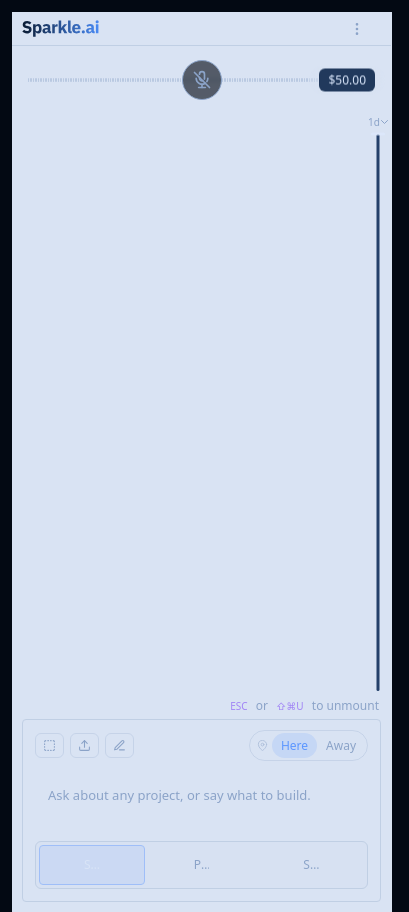
ConciergeHost — the suite is actually in the mounted state › REGRESSION: never draws one mount while routing at another, with no projectStore row
The width and height of the screenshot is (409, 912).
Type "move the button 5px left" into the text box named "Message" at (202, 804), box x1=35 y1=775 x2=368 y2=833
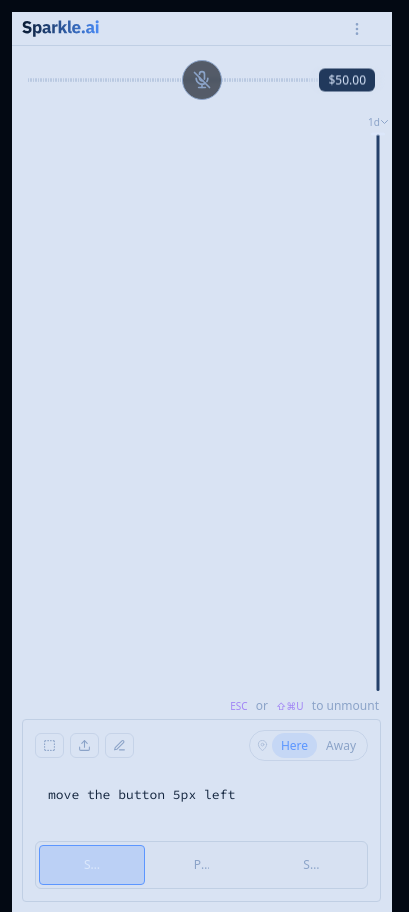
Click the button "Send" at (92, 865), box x1=39 y1=845 x2=145 y2=885
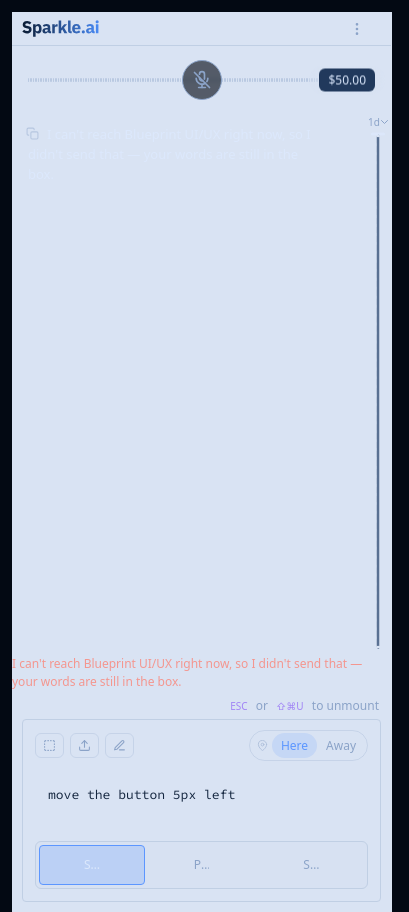
Now the message with test id "mounted-notice" shows "Blueprint UI/UX", box x1=12 y1=655 x2=362 y2=690
